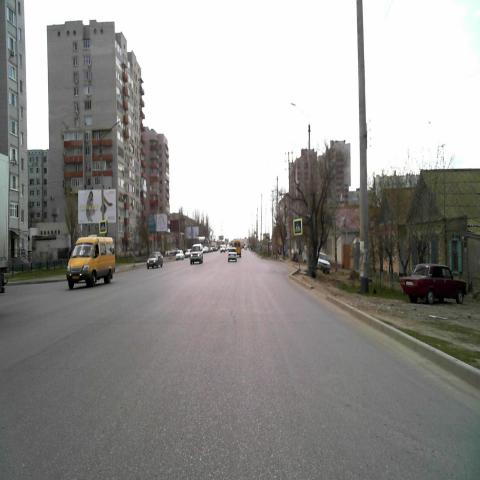5_19_1: (294, 218, 302, 235), (100, 220, 107, 233)
